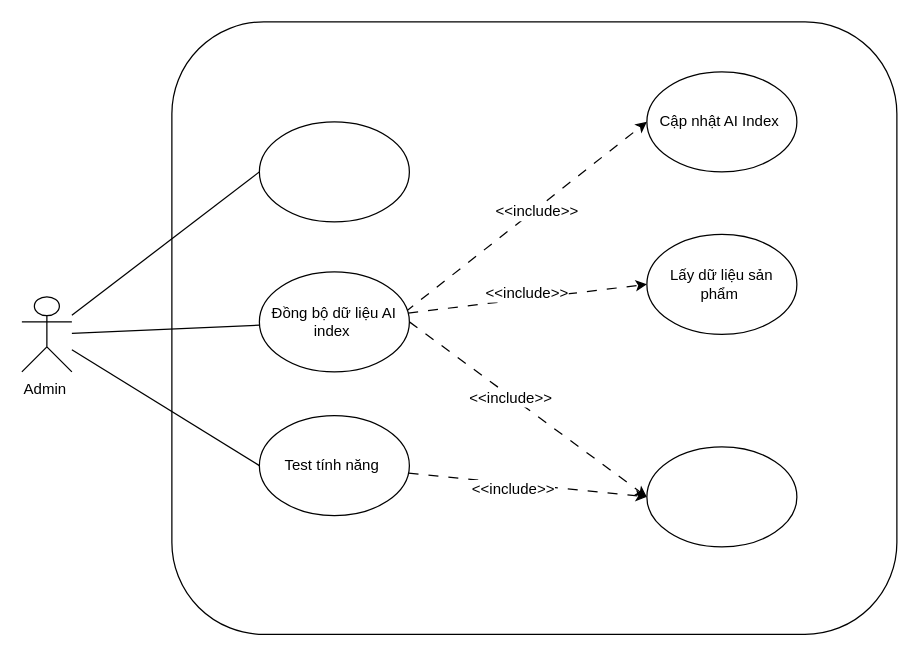
The diagram is 919 pixels wide and 656 high, and some of its shapes have lost their labels. The shapes that lost their labels are listed below. From the top down, each one's centre as x and y in pixels, then its label:
(x=333, y=171): Thêm xóa sửa sản phẩm
(x=721, y=496): Gửi sang AI Service
